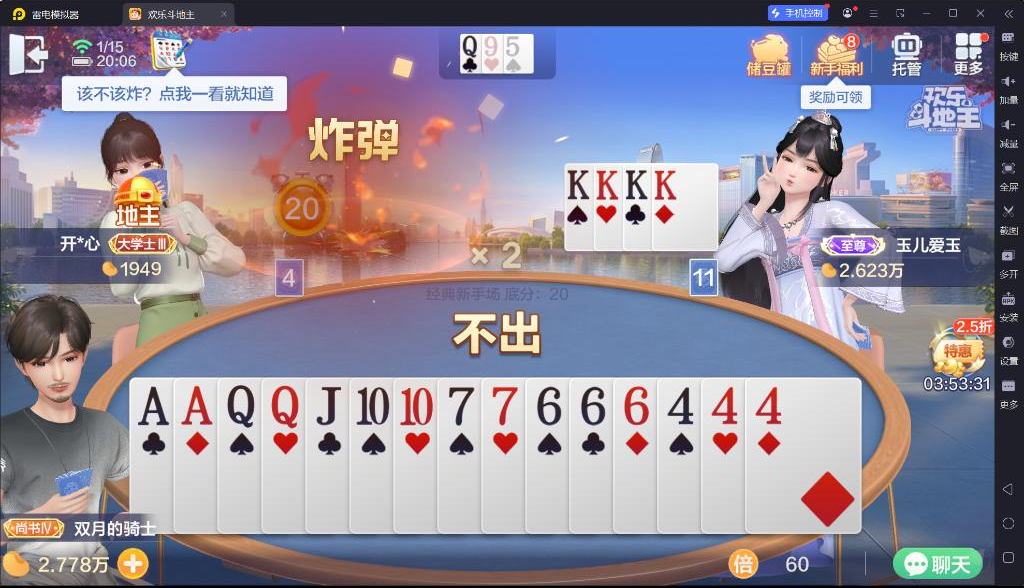A: (135, 382, 171, 429), (180, 382, 216, 428)
J: (311, 383, 344, 426)
K: (625, 165, 652, 201), (652, 166, 678, 202), (596, 166, 620, 201), (565, 168, 591, 200)
Q: (223, 383, 257, 429), (269, 384, 301, 430), (461, 35, 478, 59)
five: (505, 35, 522, 57)
four: (706, 384, 741, 427), (665, 385, 697, 427), (753, 384, 783, 427)
nine: (483, 35, 499, 57)
seven: (486, 384, 520, 427), (444, 383, 476, 427)
six: (575, 384, 609, 428), (534, 384, 564, 428), (621, 384, 651, 427)
ten: (397, 384, 435, 427), (353, 383, 390, 427)
